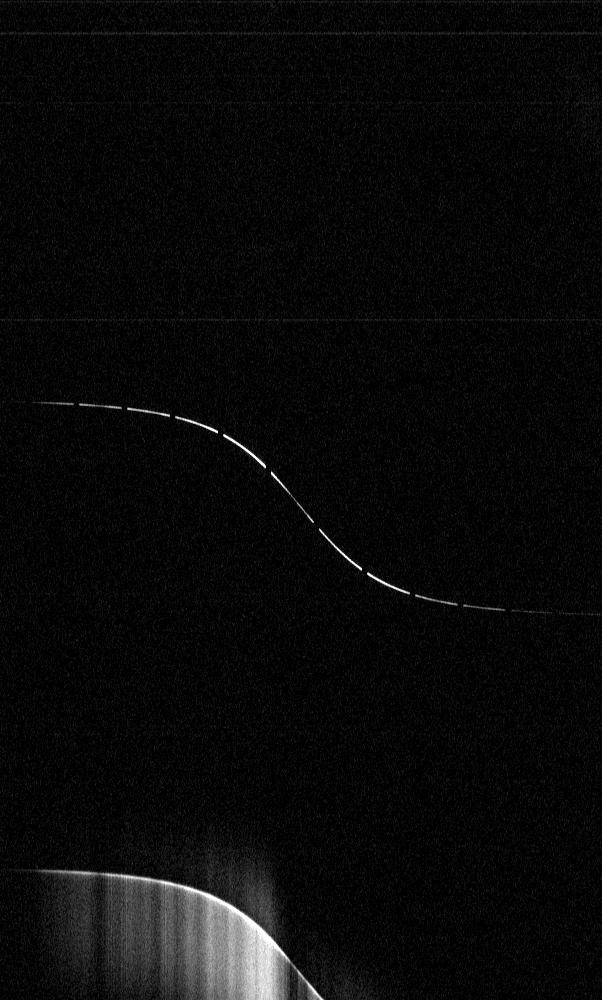signal: (0, 0, 601, 999)
